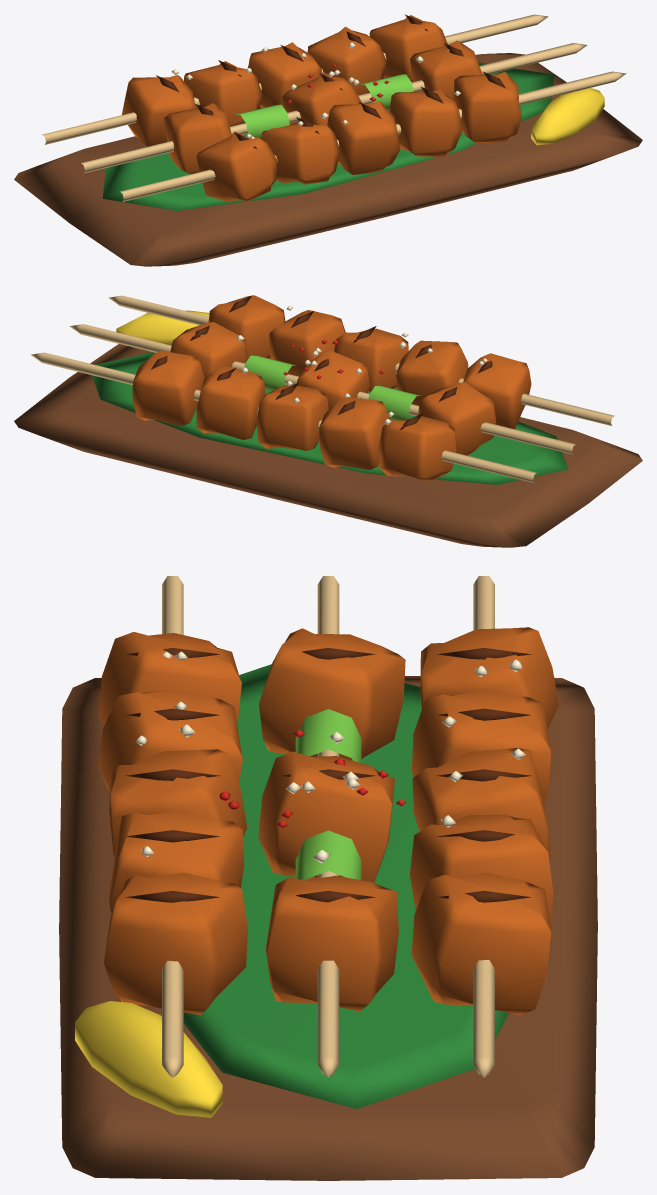
3 renders of one model, top to bottom at view 1: azimuth 30°, elevation 25°; view 2: azimuth 150°, elevation 25°; view 3: azimuth 270°, elevation 25°, orthographic. The views are drawn at different scales.
Parts seen in each view (by area): view 1: chicken (×13), board, skewer (×3), leaf, lime, scallion (×2); view 2: chicken (×13), board, skewer (×3), leaf, scallion (×2), lime; view 3: chicken (×13), board, leaf, skewer (×3), lime, scallion (×2).
Part boxes in pixels (<box>): chicken (×13): <box>122,15,522,201</box>; board: <box>14,53,642,266</box>; skewer (×3): <box>42,14,626,201</box>; leaf: <box>102,62,554,210</box>; lime: <box>531,88,604,145</box>; scallion (×2): <box>235,74,413,139</box>; chicken (×13): <box>132,295,531,480</box>; board: <box>14,344,642,547</box>; skewer (×3): <box>31,295,614,482</box>; leaf: <box>92,352,568,484</box>; scallion (×2): <box>244,355,420,420</box>; lime: <box>116,310,209,345</box>; chicken (×13): <box>97,627,558,1015</box>; board: <box>59,676,597,1180</box>; leaf: <box>183,664,508,1109</box>; skewer (×3): <box>162,576,494,1077</box>; lime: <box>75,1001,222,1117</box>; scallion (×2): <box>295,709,361,880</box>.
Size of the model in its own units: 0.2 by 0.0377 by 0.09.
